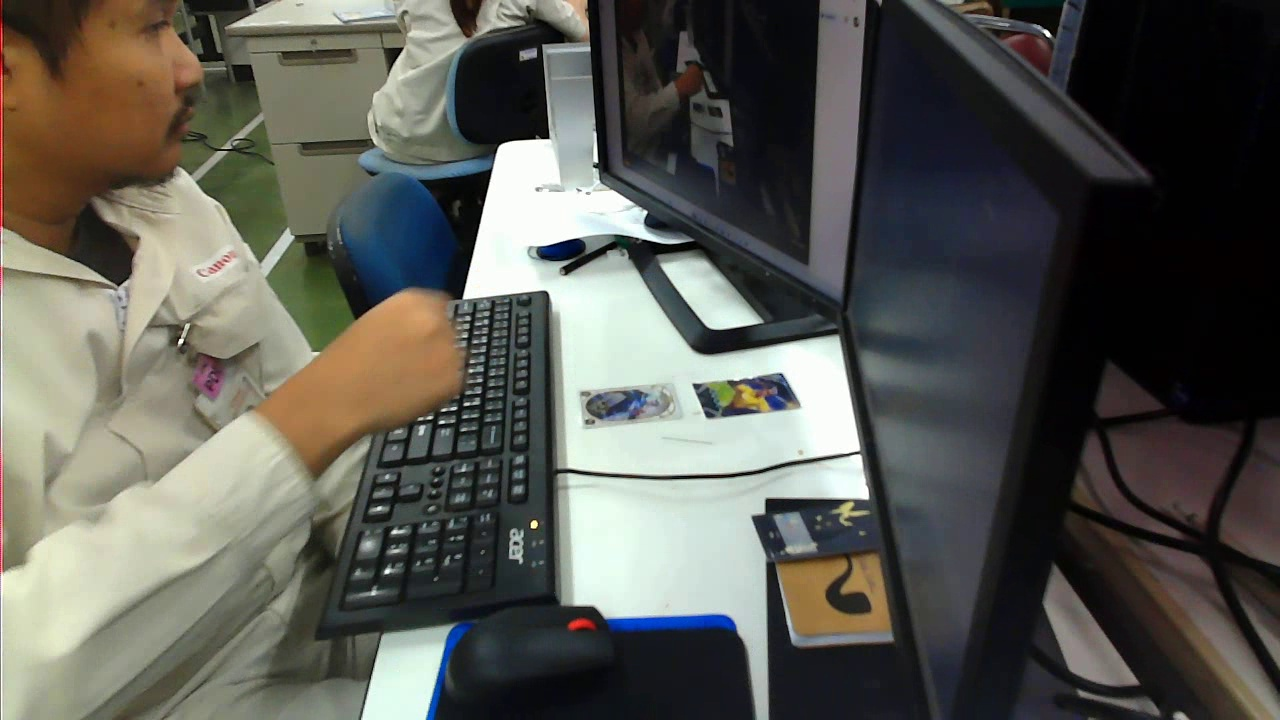can: (684, 365, 806, 419), (568, 375, 679, 428)
